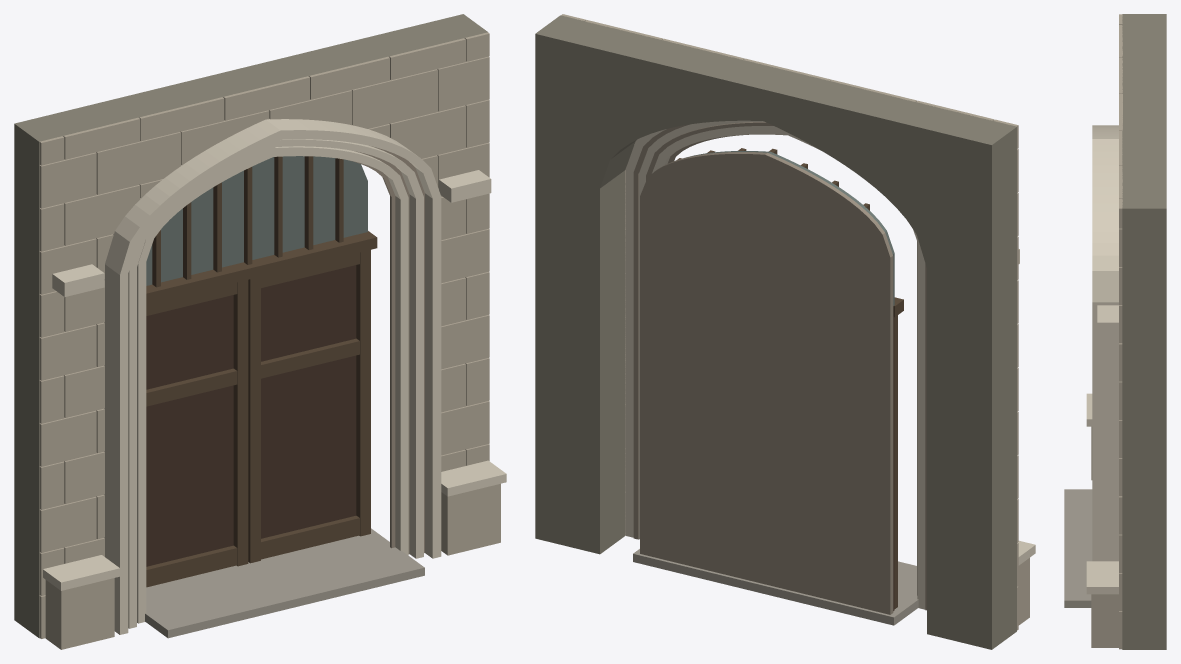
The model's file is yangpu-hujiang-haskell-gymnasium-arched-portal-lod.glb.
3 renders of one model, left to right at view 1: azimuth 30°, elevation 25°; view 2: azimuth 150°, elevation 25°; view 3: azimuth 270°, elevation 25°, orthographic. The views are drawn at different scales.
Parts seen in each view (by area): view 1: 沪江大学北体育馆历史入口石券; view 2: 沪江大学北体育馆历史入口石券; view 3: 沪江大学北体育馆历史入口石券.
Part boxes in pixels (left/top/right/bottom): 沪江大学北体育馆历史入口石券: left=14, top=14, right=506, bottom=649; 沪江大学北体育馆历史入口石券: left=535, top=14, right=1035, bottom=649; 沪江大学北体育馆历史入口石券: left=1064, top=14, right=1166, bottom=649.
Size of the model in its own units: 3.2 by 3.38 by 0.71.
